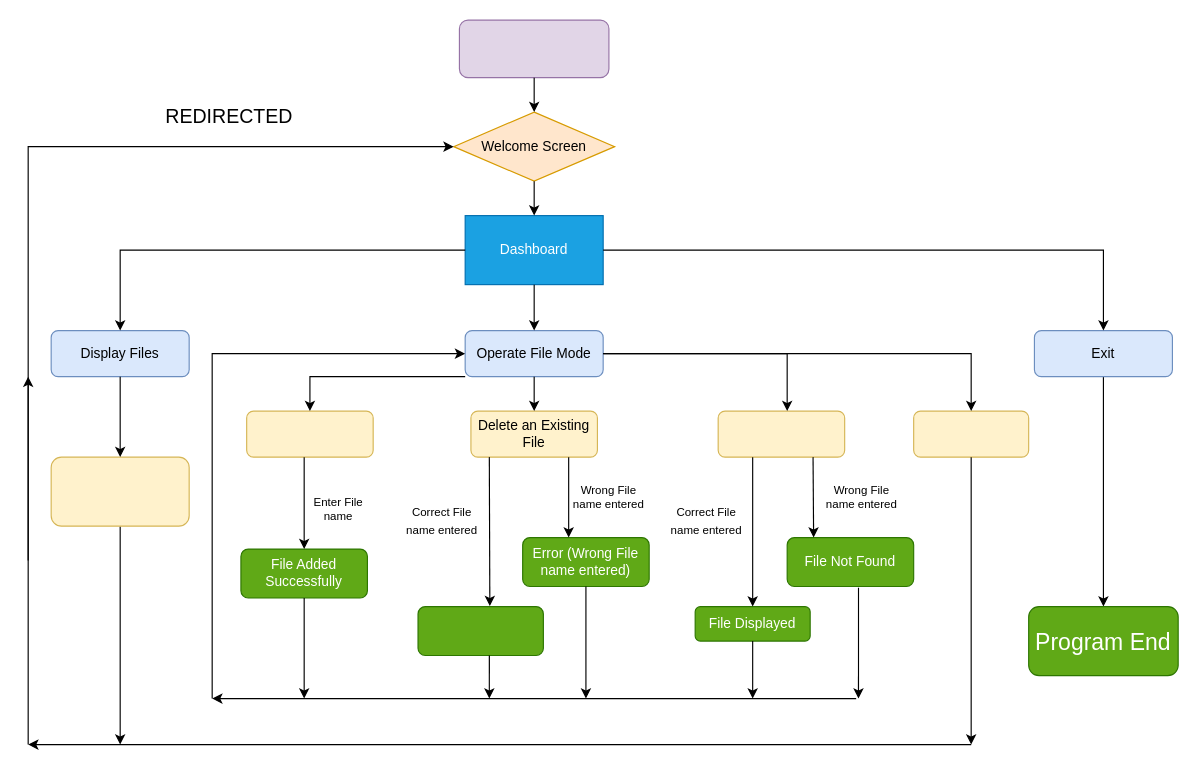
The diagram is 1198 pixels wide and 774 high, and some of its shapes have lost their labels. Here are the shapes that lost their labels. From the top down, the centre of each, then its label:
At [533,48]: "Program Start".
At [309,433]: "Add a new File".
At [781,433]: "Search for a file".
At [971,433]: "Return to Dashboard".
At [119,491]: "Alphabetically sorted list of all saved files".
At [480,630]: "File Deleted Successfully".
